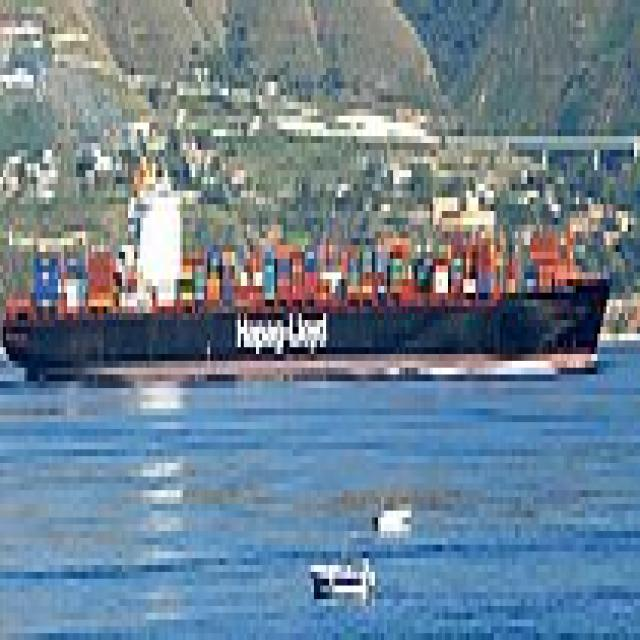Cargo: (0, 136, 613, 375)
